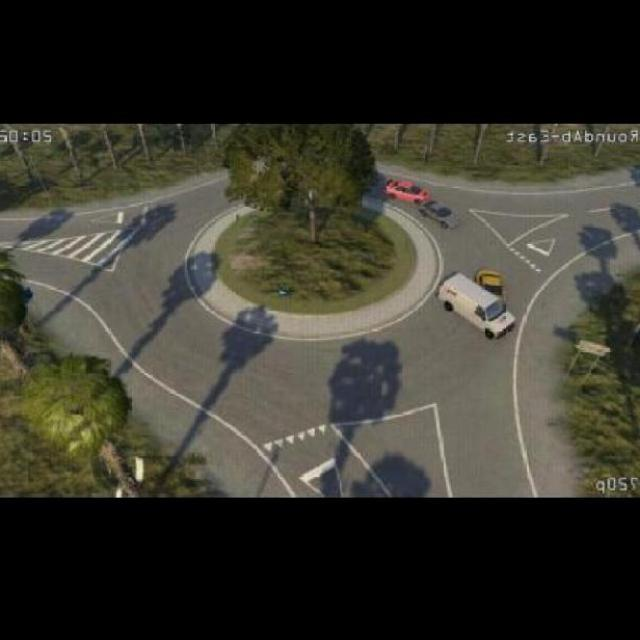accident: (456, 258, 519, 337)
